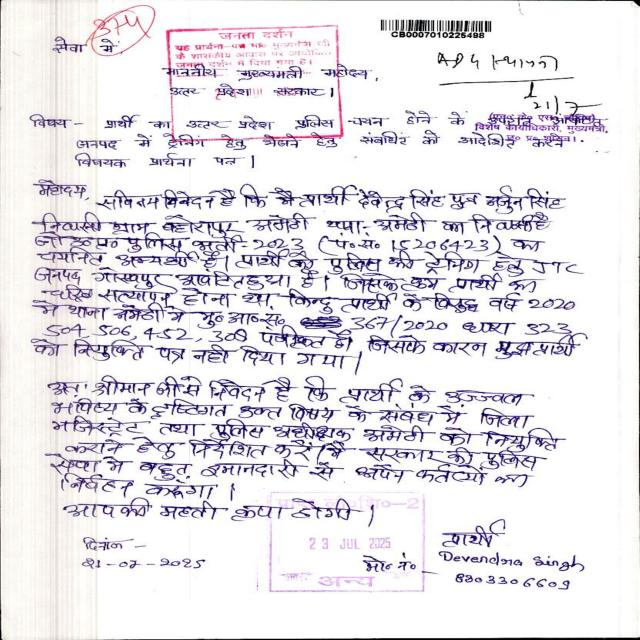antritgovtstamp: (272, 487, 430, 598)
barcode: (379, 13, 494, 42)
jantadarsan: (166, 25, 344, 137)
signnamestamp: (460, 74, 616, 146)
